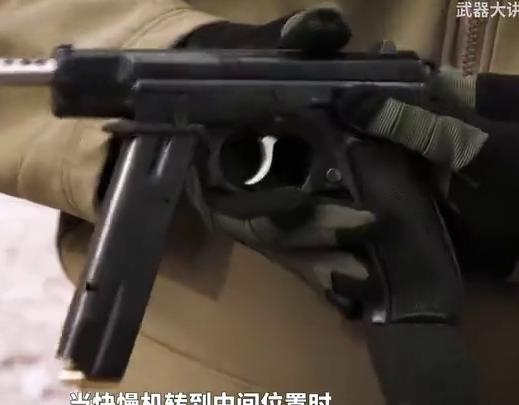gun: (1, 1, 519, 405)
